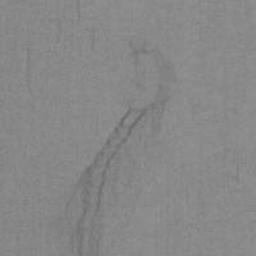Water spot: (68, 86, 167, 256), (134, 52, 154, 88), (26, 48, 33, 95), (76, 0, 81, 21), (91, 30, 96, 49)
